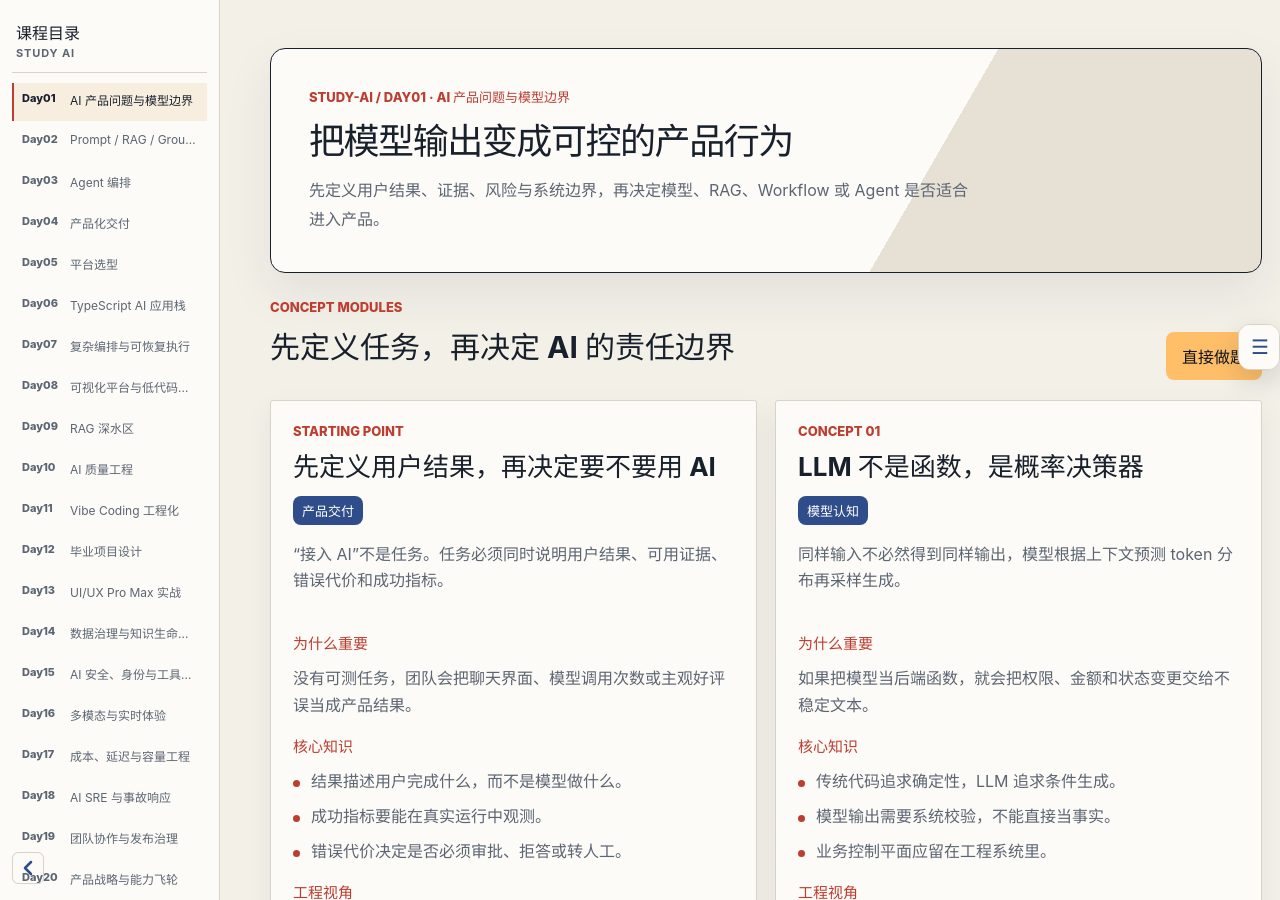
App navigation › toggles the desktop course navigation with a stable SVG control
Click the button named "收起课程目录" at coordinates (28, 868), box [12, 852, 44, 884]
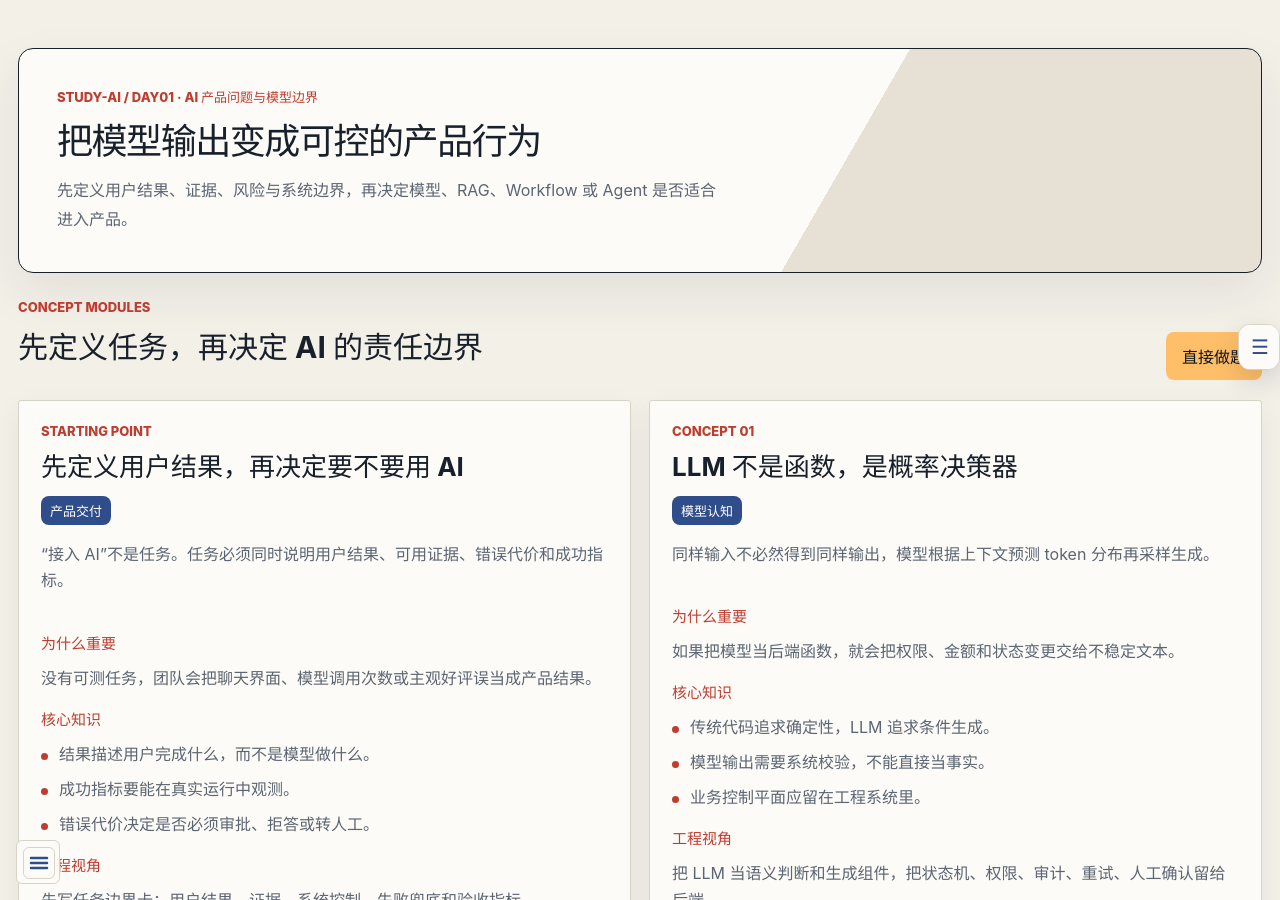
Expected: the button named "展开课程目录" is collapsed, [23, 847, 55, 879]
Expected: the icon is shown, [27, 851, 51, 875]
